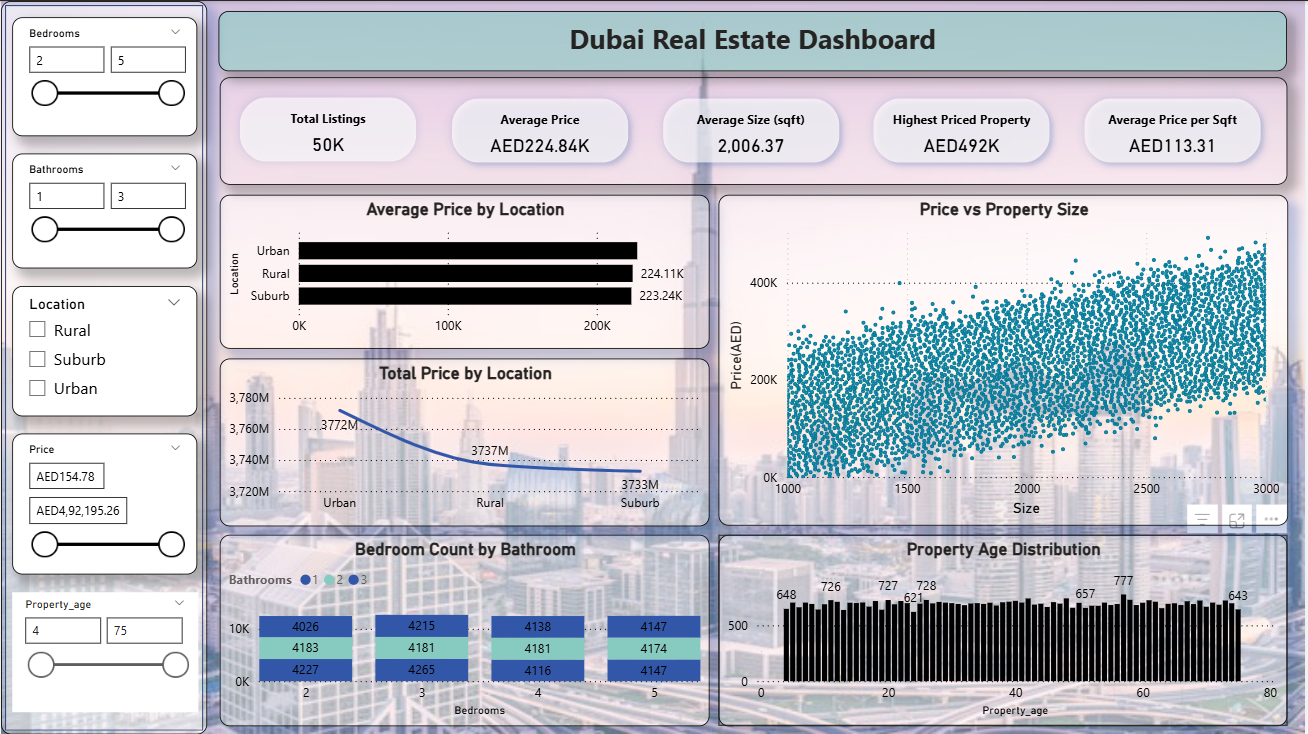

The dashboard page shown, as its layout file describes it:
{"tool":"powerbi","page":{"name":"Page 1","canvas":[1280,720],"ordinal":0},"visuals":[{"type":"cardVisual","fields":{"Data":["housing_price_dataset.Total Listings","housing_price_dataset.Average Price","housing_price_dataset.Average Size (sqft)","housing_price_dataset.Highest Priced Property","housing_price_dataset.Average Price per Sqft"]},"box":[214.7,74.8,1047.9,105.5],"z":0},{"type":"clusteredBarChart","title":"Average Price by Location","fields":{"Category":["housing_price_dataset.location"],"Y":["housing_price_dataset.Average Price"]},"box":[214.7,190.2,481,150.9],"z":1000},{"type":"columnChart","title":"Bedroom Count by Bathroom","fields":{"Category":["housing_price_dataset.Bedrooms"],"Series":["housing_price_dataset.Bathrooms"],"Y":["CountNonNull(housing_price_dataset.Price)"]},"box":[214.7,523.9,481,187.7],"z":2000},{"type":"lineChart","title":"Total Price by Location","fields":{"Category":["housing_price_dataset.location"],"Y":["Sum(housing_price_dataset.Price)"]},"box":[214.7,350.9,481,164.4],"z":3000},{"type":"clusteredColumnChart","title":"Property Age Distribution","fields":{"Category":["housing_price_dataset.property_age"],"Y":["CountNonNull(housing_price_dataset.Price)"]},"box":[704.3,523.9,558.3,187.7],"z":4000},{"type":"shape","box":[0,0,202.5,720.2],"z":5000},{"type":"slicer","fields":{"Values":["housing_price_dataset.Bedrooms"]},"box":[11,16,181.6,116.6],"z":6000},{"type":"slicer","fields":{"Values":["housing_price_dataset.Bathrooms"]},"box":[11,149.7,181.6,112.9],"z":7000},{"type":"slicer","fields":{"Values":["housing_price_dataset.location"]},"box":[11,279.8,181.6,127.6],"z":8000},{"type":"slicer","title":"Price(AED)","fields":{"Values":["housing_price_dataset.Price"]},"box":[11,424.5,181.6,138.7],"z":9000},{"type":"slicer","fields":{"Values":["housing_price_dataset.property_age"]},"box":[11,580.4,181.6,117.8],"z":10000},{"type":"textbox","box":[213.5,9.8,1049.1,58.9],"z":11000},{"type":"scatterChart","title":"Price vs Property Size","fields":{"Y":["housing_price_dataset.Price"],"X":["housing_price_dataset.Size"]},"box":[704.3,190.2,559.5,325.2],"z":12000}]}

Visuals, with their boxes in screenshot pixels (x1, y1, x2, y2), scaled from the page's 1280x720 canvas onto the 1308x734 screenshot:
cardVisual - housing_price_dataset.Total Listings x housing_price_dataset.Average Price: box=[219, 76, 1290, 184]
"Average Price by Location" clusteredBarChart: box=[219, 194, 711, 348]
"Bedroom Count by Bathroom" columnChart: box=[219, 534, 711, 725]
"Total Price by Location" lineChart: box=[219, 358, 711, 525]
"Property Age Distribution" clusteredColumnChart: box=[720, 534, 1290, 725]
shape: box=[0, 0, 207, 733]
slicer - housing_price_dataset.Bedrooms: box=[11, 16, 197, 135]
slicer - housing_price_dataset.Bathrooms: box=[11, 153, 197, 268]
slicer - housing_price_dataset.location: box=[11, 285, 197, 415]
"Price(AED)" slicer: box=[11, 433, 197, 574]
slicer - housing_price_dataset.property_age: box=[11, 592, 197, 712]
textbox: box=[218, 10, 1290, 70]
"Price vs Property Size" scatterChart: box=[720, 194, 1291, 525]
